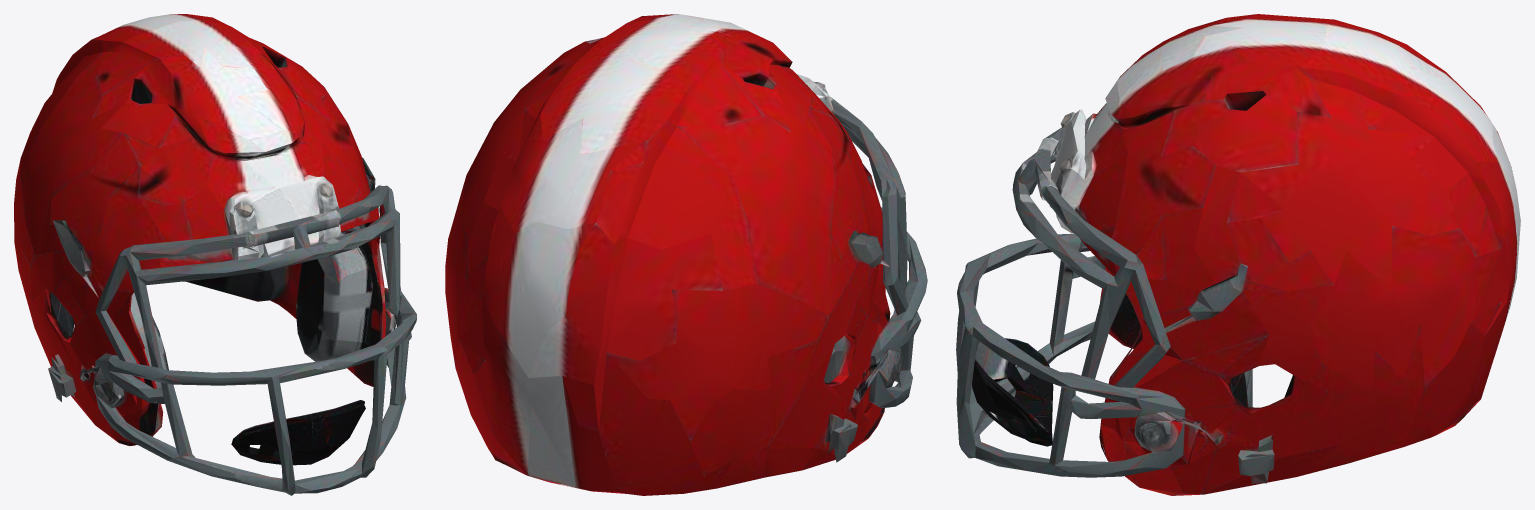
Rendered from helmet_fb.glb.
The picture shows the model from 3 angles, left to right: view 1: azimuth 30°, elevation 25°; view 2: azimuth 150°, elevation 25°; view 3: azimuth 270°, elevation 25°; orthographic projection. The views are drawn at different scales.
Bounding box in the file's own units: 1.35 × 1.53 × 1.9.
1 material, 1 textured.
